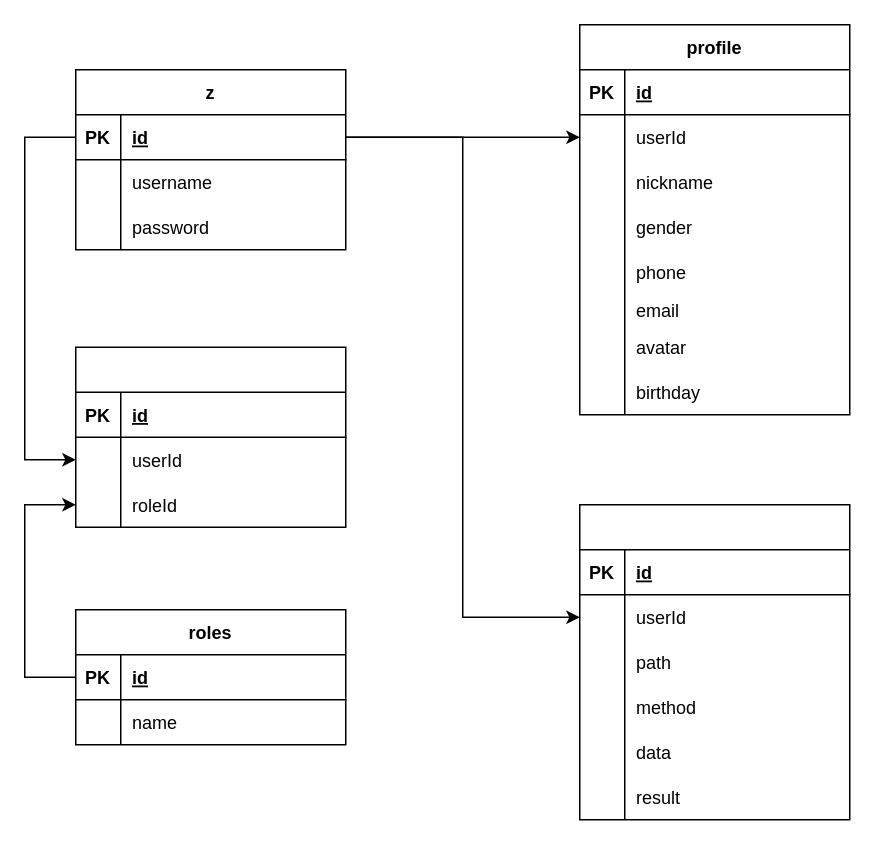
The diagram is 875 pixels wide and 845 high, and some of its shapes have lost their labels. Each missing label, with the box of its shape:
logs: (578, 503, 850, 820)
users_roles: (74, 346, 346, 527)
